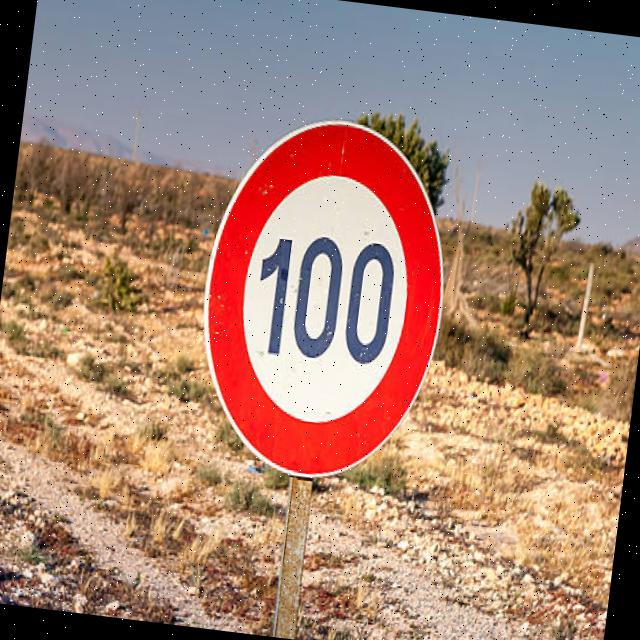speed_limit_100: (176, 91, 468, 498)
